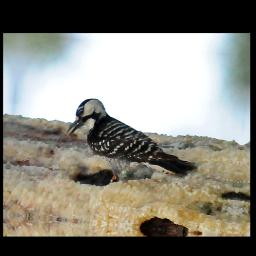Woodpecker: (62, 94, 203, 189)
